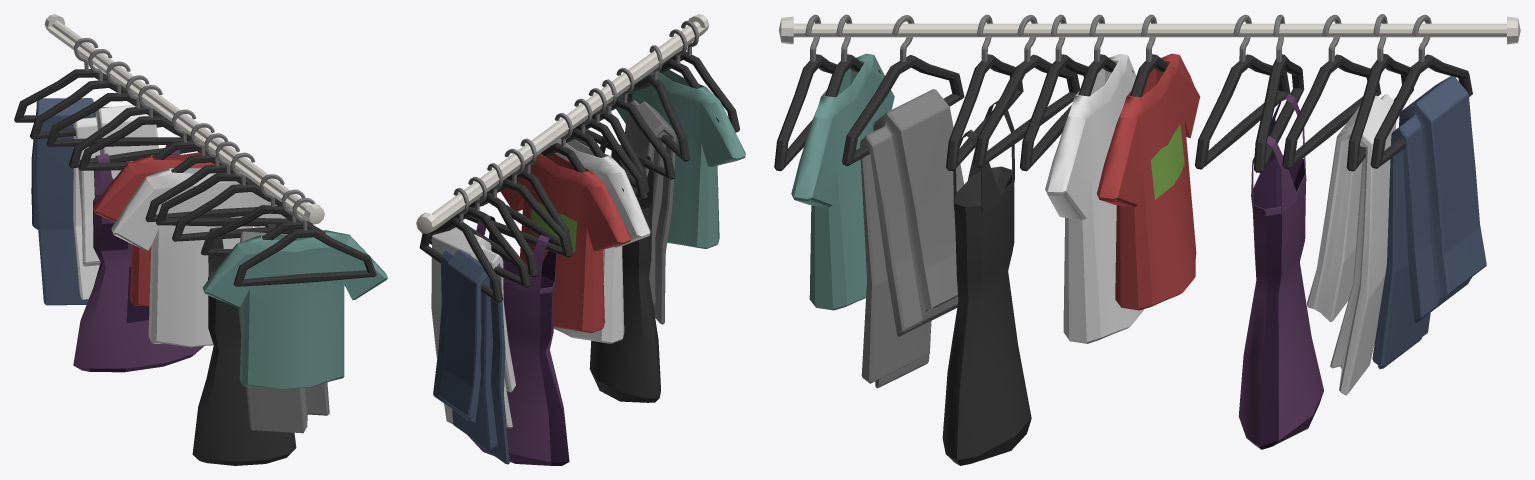
The model's file is Clothes_Rack.fbx.
The picture shows the model from 3 angles, left to right: view 1: azimuth 30°, elevation 25°; view 2: azimuth 150°, elevation 25°; view 3: azimuth 270°, elevation 25°; orthographic projection. The views are drawn at different scales.
Parts seen in each view (by area): view 1: pasted__clthes, pasted__hanger_bar; view 2: pasted__clthes, pasted__hanger_bar; view 3: pasted__clthes, pasted__hanger_bar.
Boxes of the visible parts, x1,y1,x2,y2 form: pasted__clthes: (14,38,387,465); pasted__hanger_bar: (44,14,324,224); pasted__clthes: (419,20,745,465); pasted__hanger_bar: (416,14,709,233); pasted__clthes: (774,14,1486,465); pasted__hanger_bar: (778,16,1520,44).
Size of the model in its own units: 0.9885 by 1.82 by 2.9.
